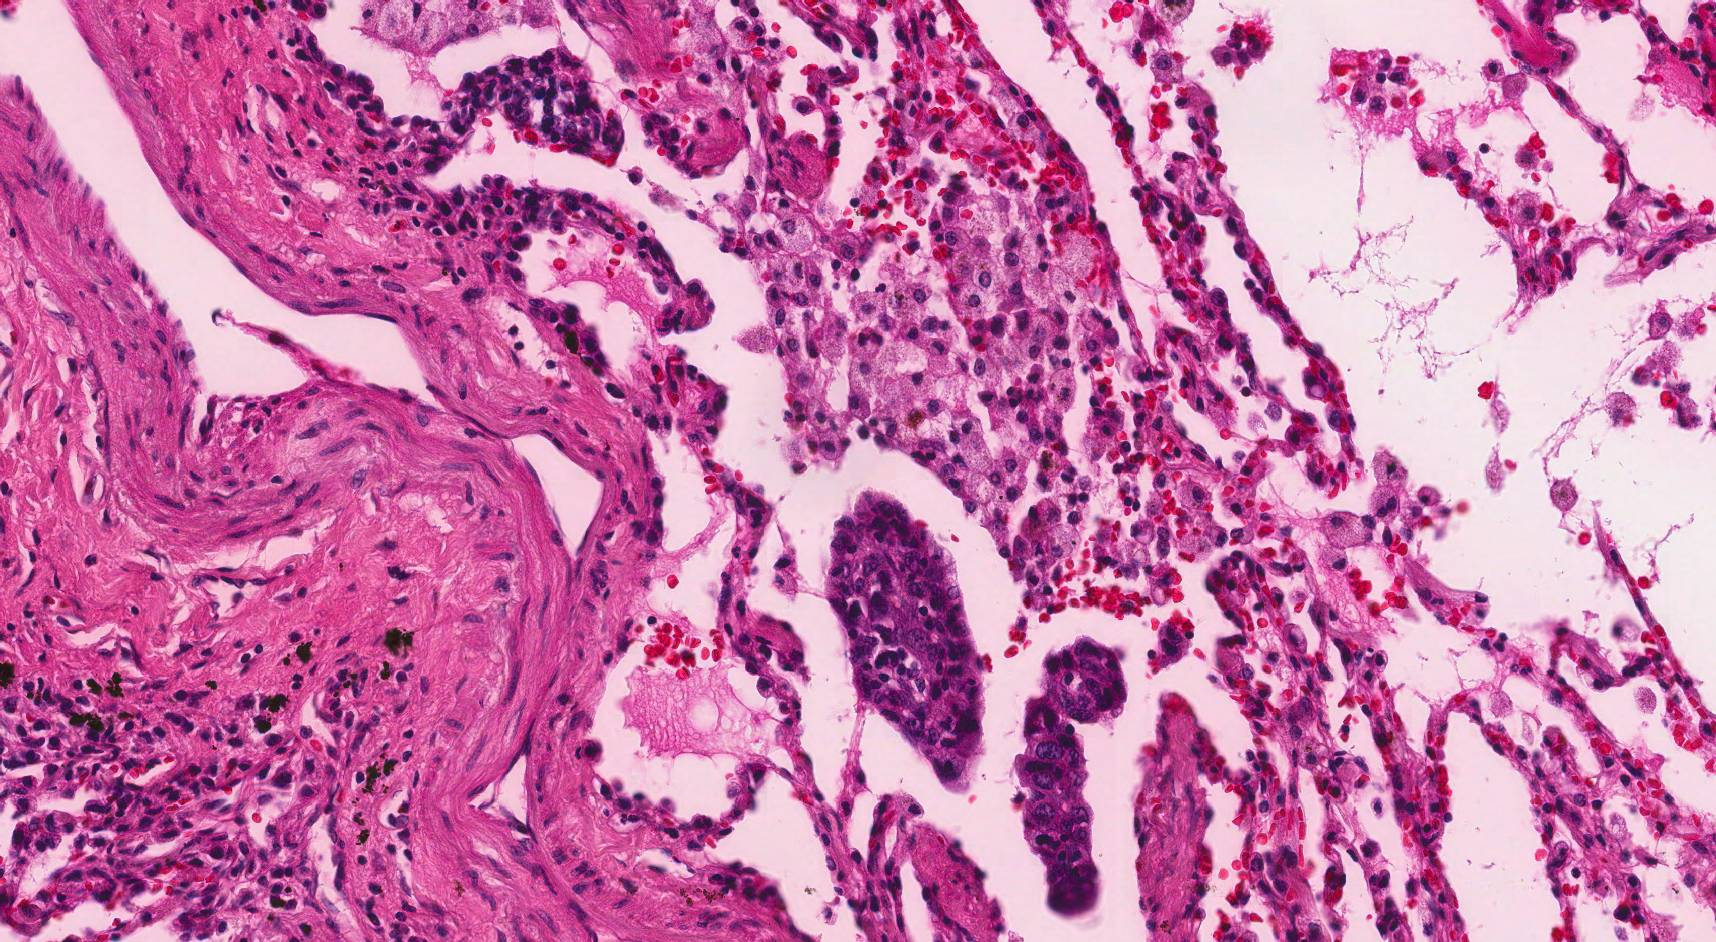stas: (827, 490, 987, 794), (1014, 637, 1128, 918)
